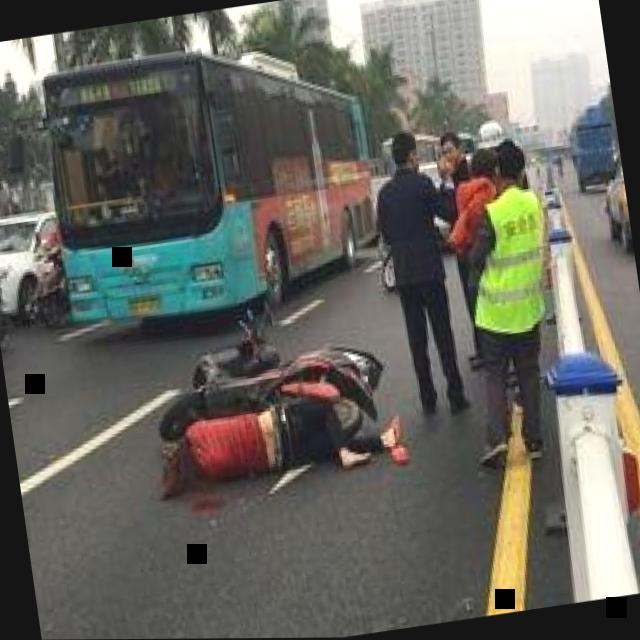Fall-Detected: (139, 375, 414, 515)
